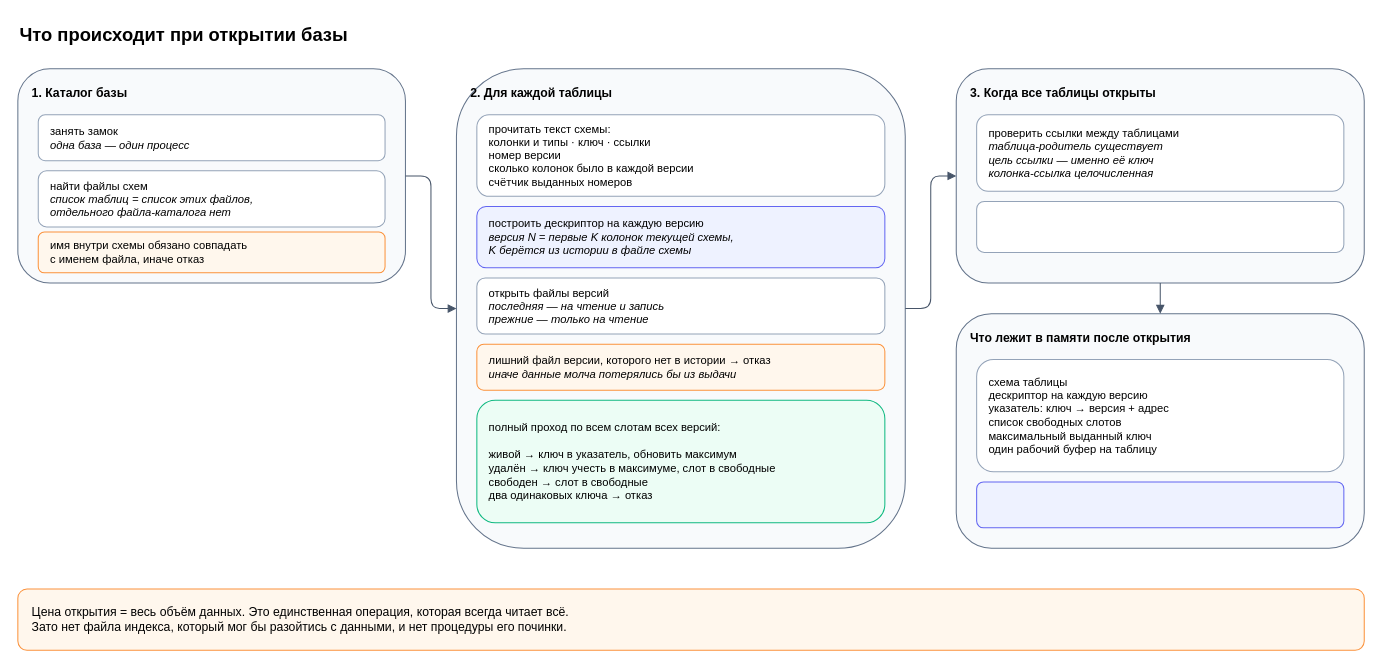
This 1382x668 diagram has some shape labels left out. Here are the shapes that lost their labels. From the top down, the centre of each, then its label:
At point 1160,226: "порядок открытия не важен: ссылки проверяются после загрузки всех схем".
At point 1160,504: "на диск указатель не пишется: он производный и восстановим из данных".
